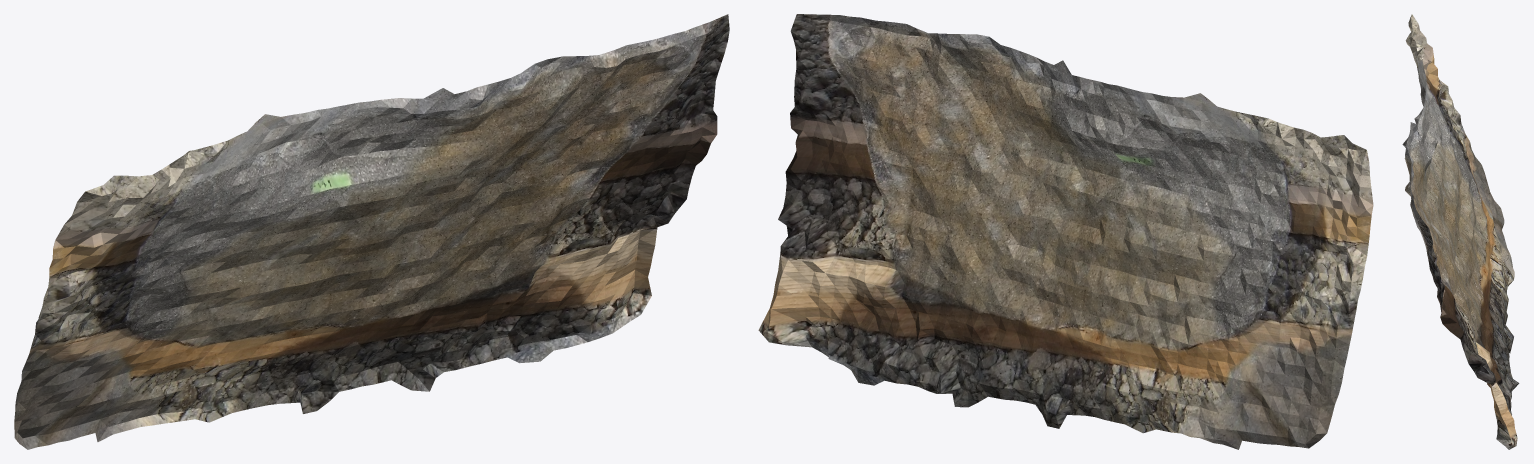
3 renders of one model, left to right at view 1: azimuth 30°, elevation 25°; view 2: azimuth 150°, elevation 25°; view 3: azimuth 270°, elevation 25°, orthographic. The views are drawn at different scales.
Size of the model in its own units: 793 by 421 by 172.
